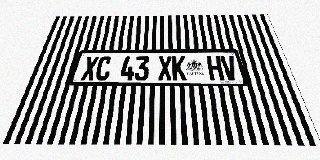3: (134, 56, 149, 81)
4: (119, 56, 136, 81)
C: (94, 56, 112, 81)
H: (206, 56, 224, 81)
K: (172, 56, 187, 81)
V: (220, 56, 239, 81)
X: (80, 56, 99, 81), (158, 56, 172, 81)
